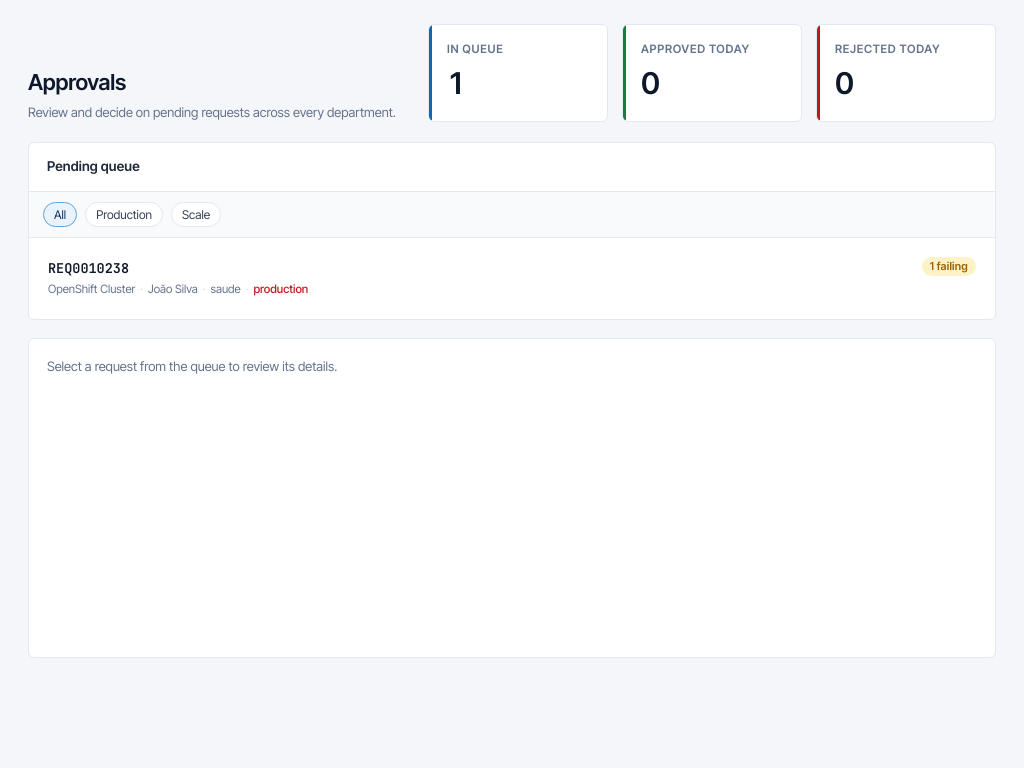
Approvals › approving with a failing policy check first opens the override modal; status unchanged until Confirm
Click the button with class "approval-row" at (88, 268), box [35, 244, 989, 309]
(page scrolled)
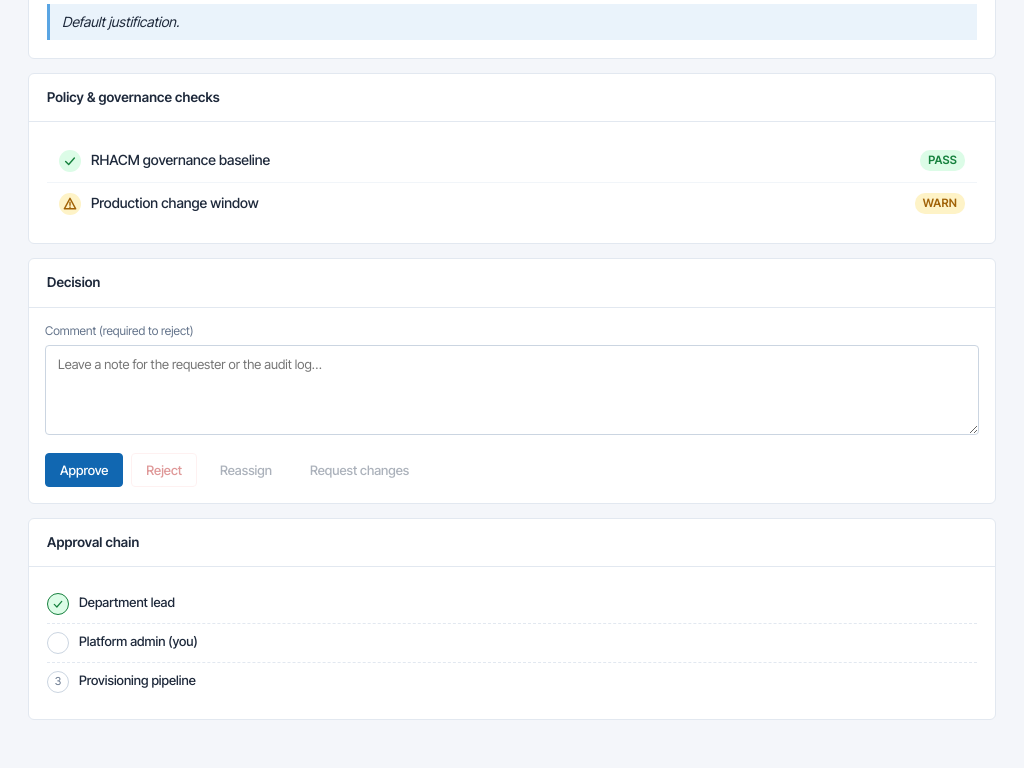
Click the button "Approve" at (84, 470), box [45, 453, 123, 487]
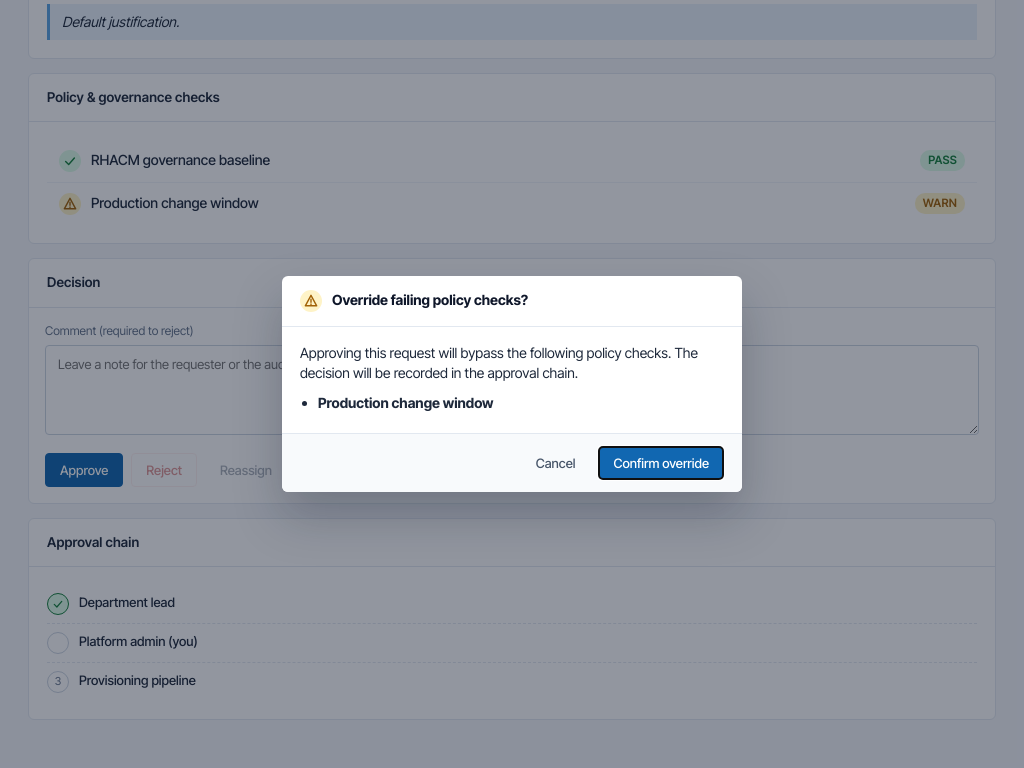
Result: the dialog with test id "override-modal" is shown
Result: the dialog with test id "override-modal" shows "Production change window" at [318, 394, 494, 411]
Click the button "Confirm override" at (661, 463), box [598, 446, 724, 480]
(page scrolled)
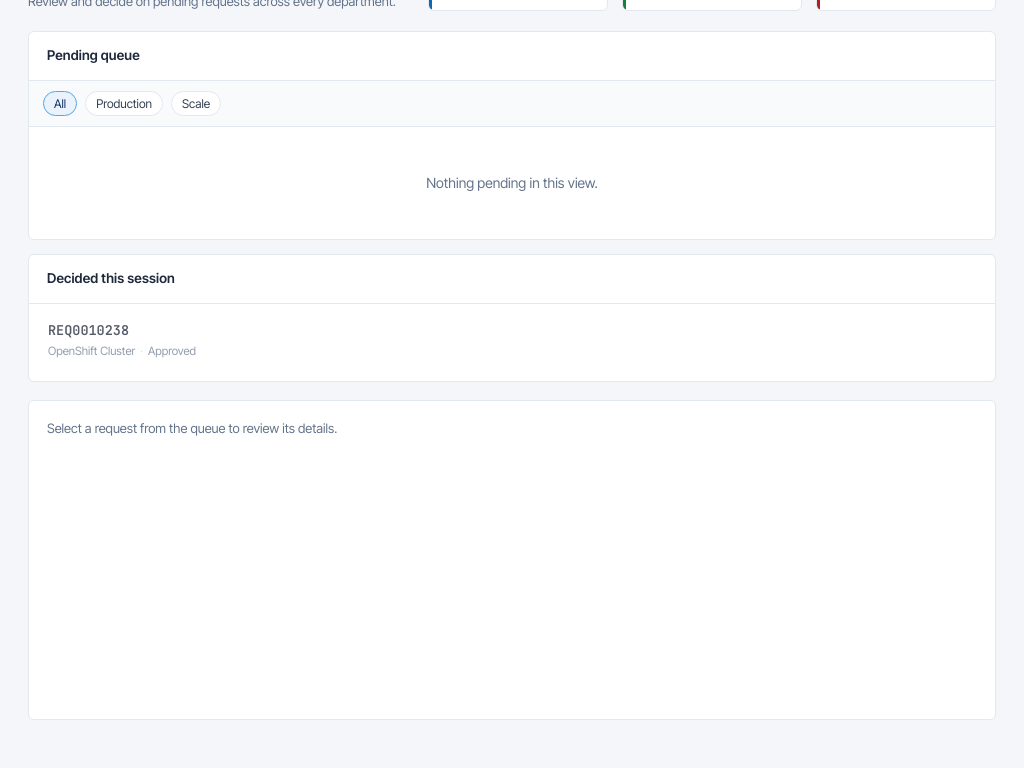
Result: the dialog with test id "override-modal" is gone
Result: the element with test id "decided-this-session" shows "REQ0010238" at [48, 321, 129, 339]
